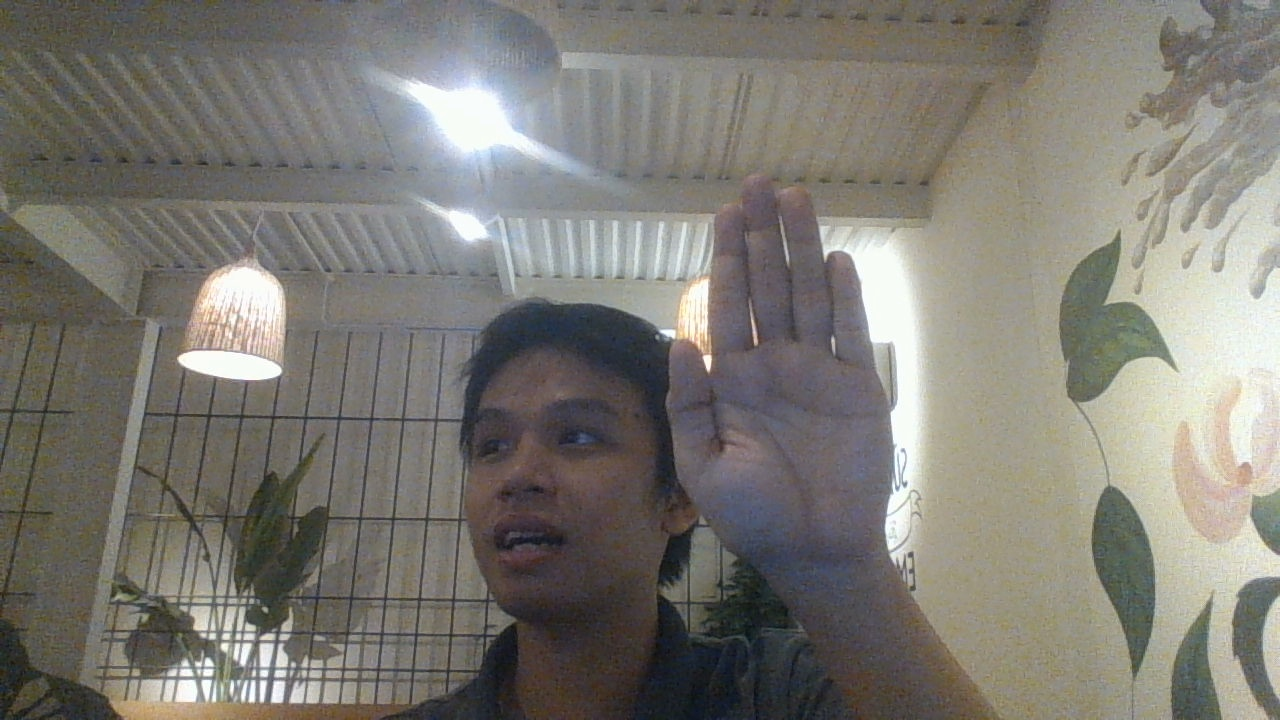check: (661, 170, 898, 571)
